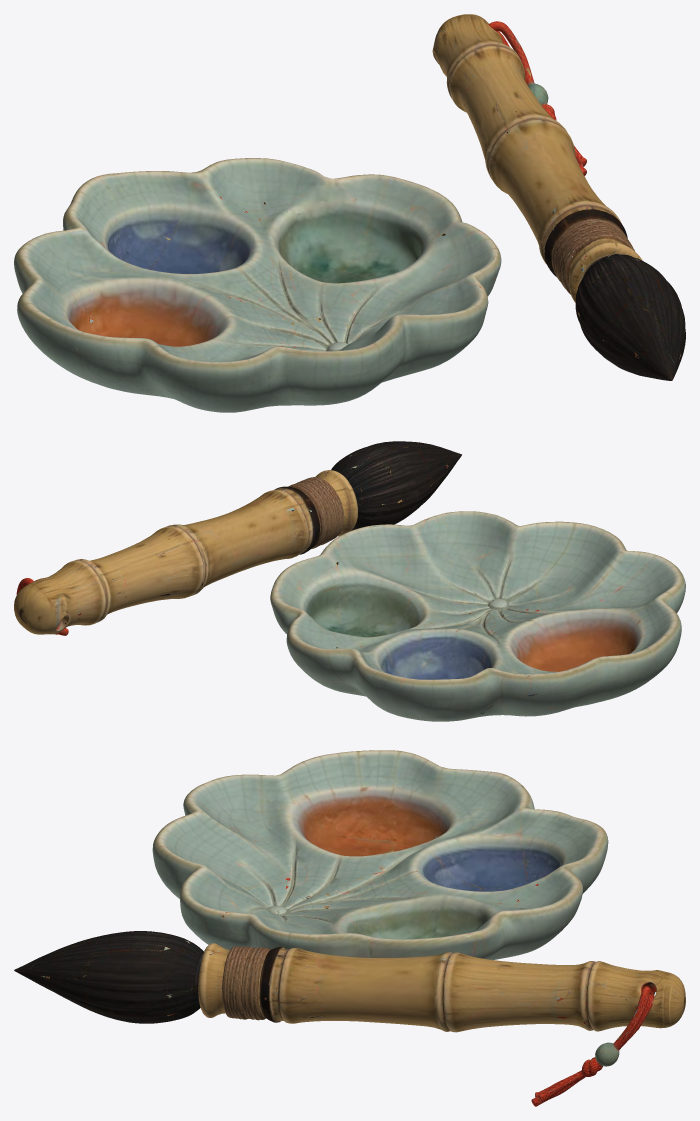
The model's file is designer.glb.
3 views of the same model, one above another, from view 1: azimuth 30°, elevation 25°; view 2: azimuth 150°, elevation 25°; view 3: azimuth 270°, elevation 25° (orthographic). The views are drawn at different scales.
Bounding box in the file's own units: 1.9 × 0.3541 × 1.88.
1 material, 1 textured.
